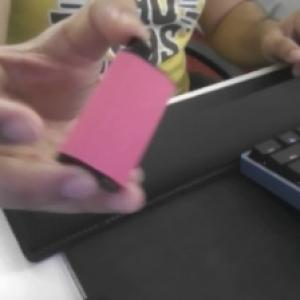Blume-E-Ciggirate: (57, 37, 178, 193)
